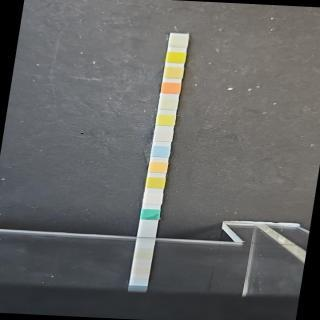mark: (153, 144, 170, 158), (162, 82, 180, 94), (168, 51, 186, 63), (170, 34, 188, 46), (146, 193, 162, 206), (142, 208, 159, 220), (160, 98, 177, 110), (148, 178, 164, 190), (150, 160, 166, 172), (156, 129, 172, 141), (166, 66, 182, 78), (158, 114, 175, 124)
